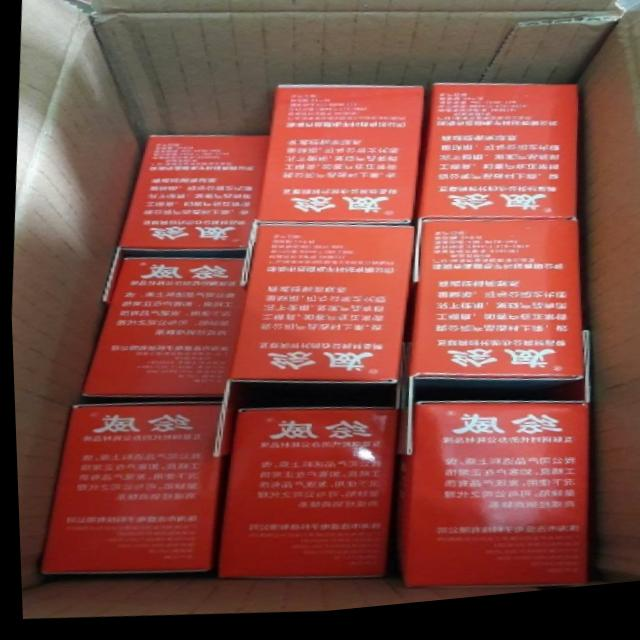box: (392, 409, 579, 597), (33, 407, 220, 578), (215, 413, 398, 585), (231, 229, 415, 389), (404, 228, 579, 389), (74, 260, 244, 403), (254, 92, 424, 233), (414, 92, 579, 230), (115, 139, 268, 257)
